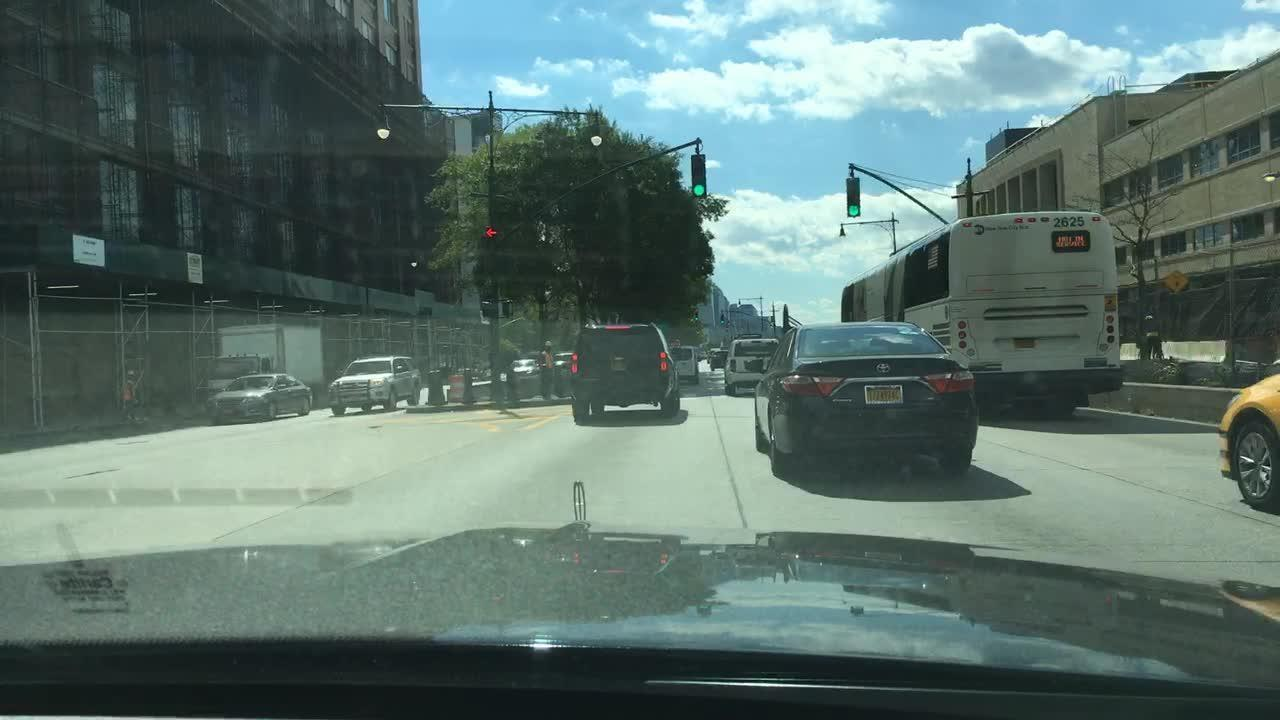Toyota: (873, 358, 893, 378)
jeep: (611, 355, 627, 362)
lincoln: (558, 470, 600, 542)
